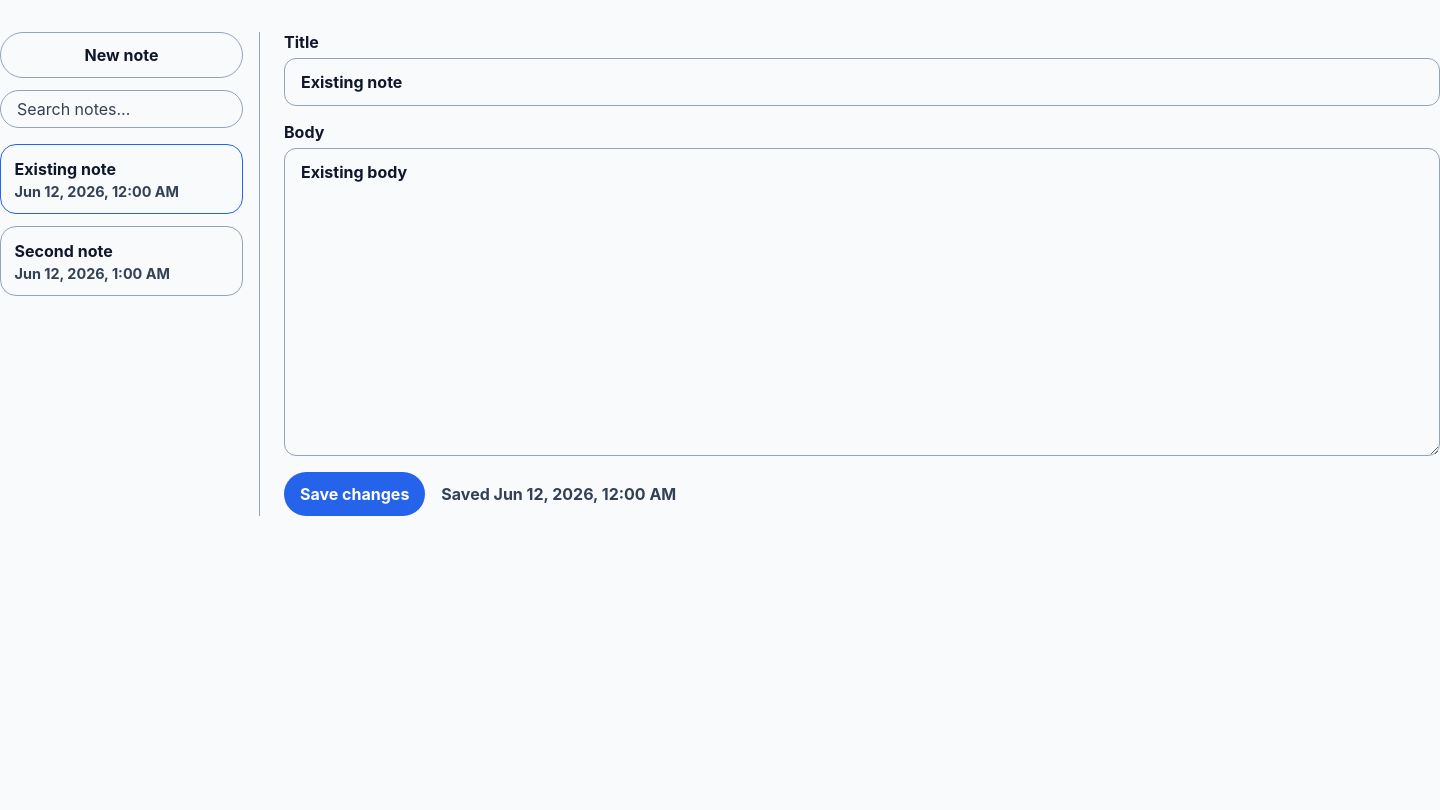
it: NoteEditor › unsaved changes guard › discards changes and switches note when confirm is clicked
This screenshot has width=1440, height=810.
Type " modified" into the field labelled "Title". click: point(862, 82)
box: [284, 58, 1439, 106]
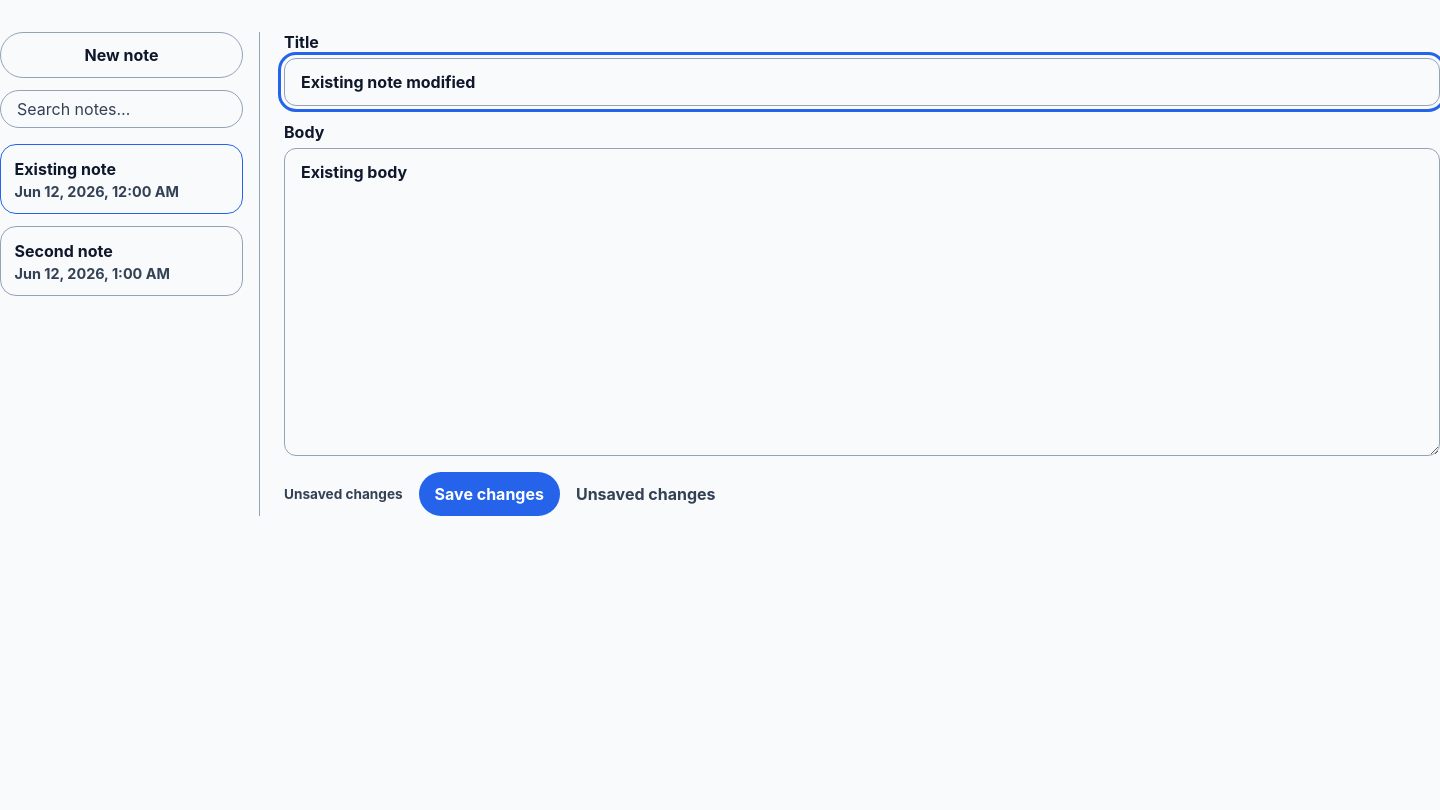
# Click on second note while dirty
Click the text "Second note". click: point(64, 251)
box: [15, 241, 113, 261]
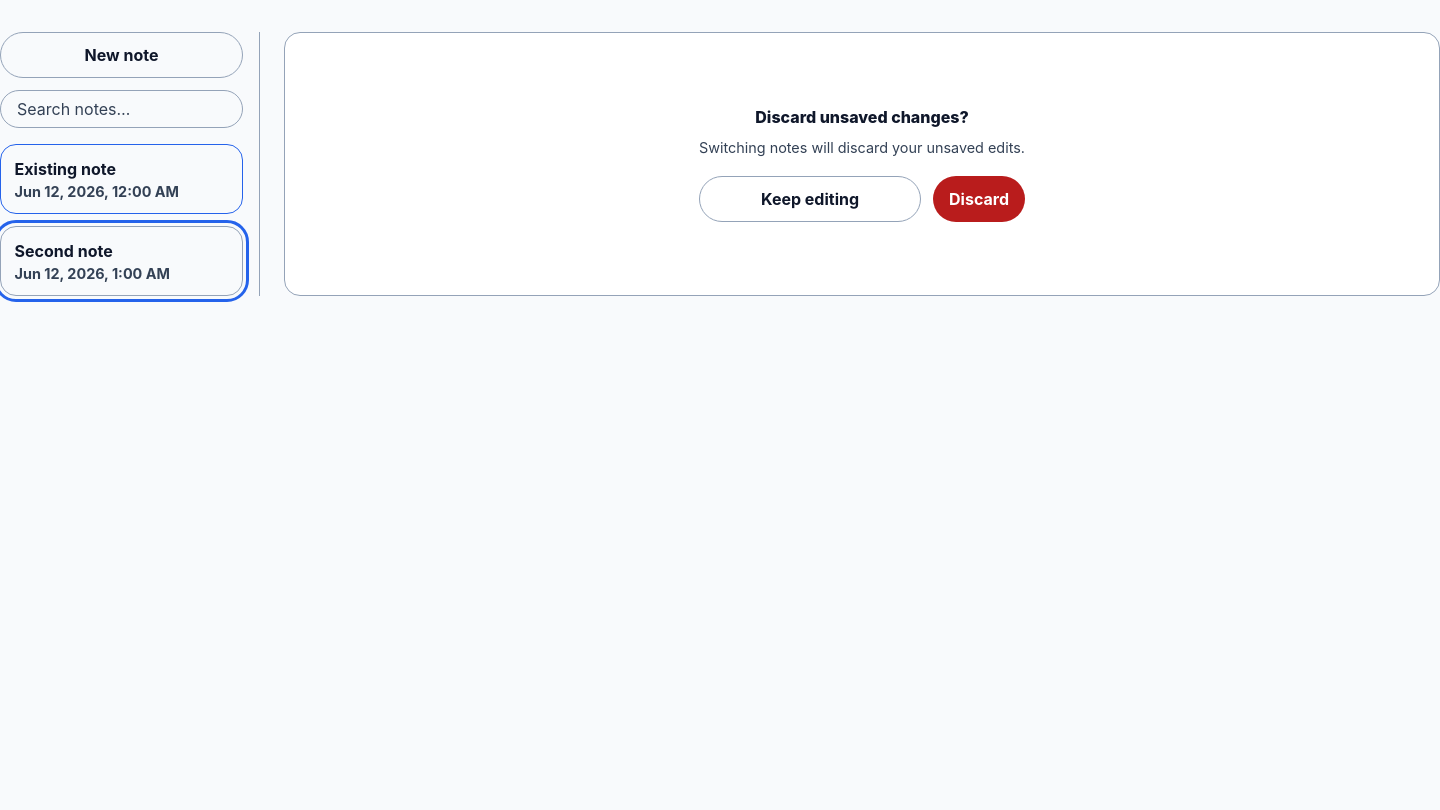
# Confirm the discard
Click the button "Discard". click: point(979, 199)
box: [933, 176, 1025, 222]
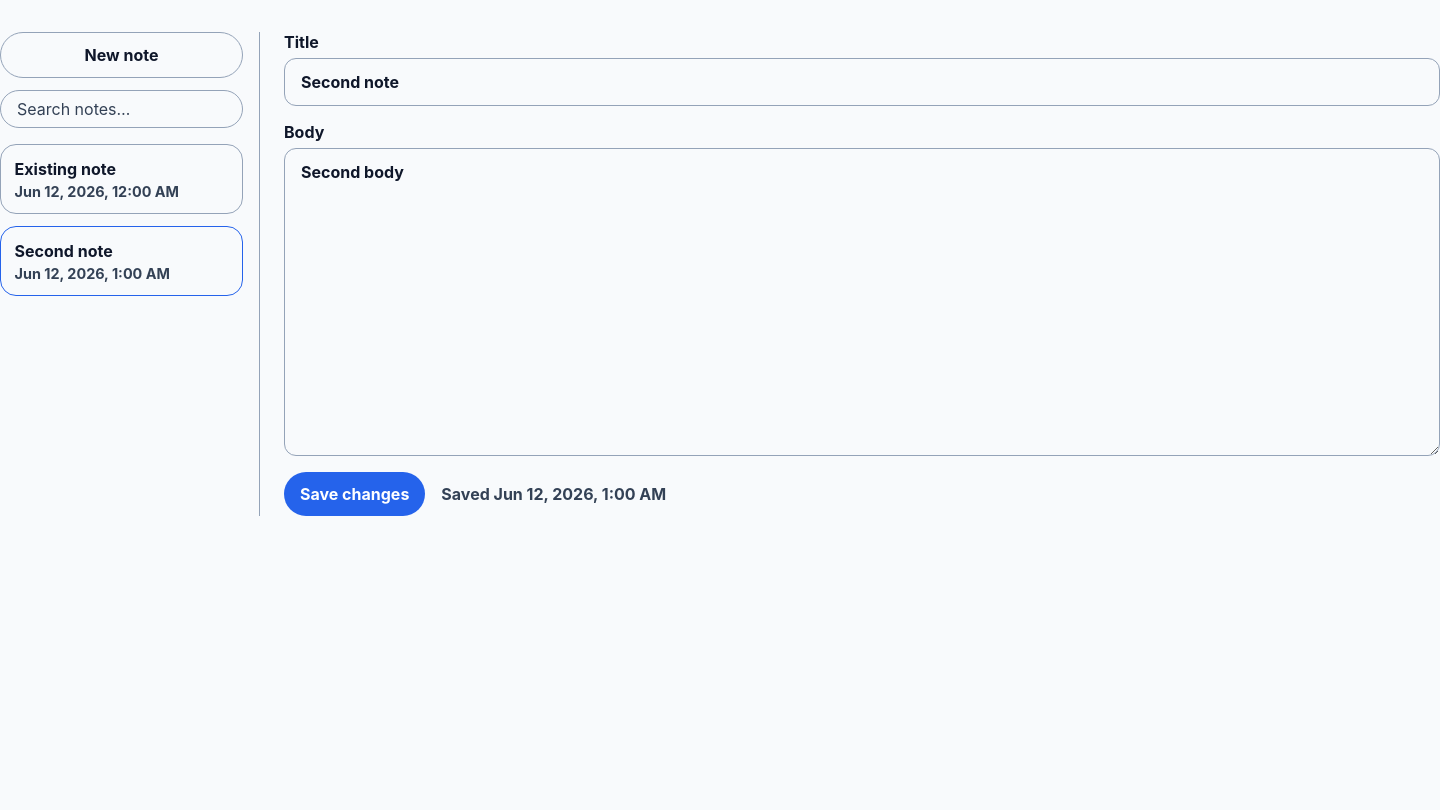
expect the field labelled "Title" holds "Second note": met, box [284, 58, 1439, 106]
